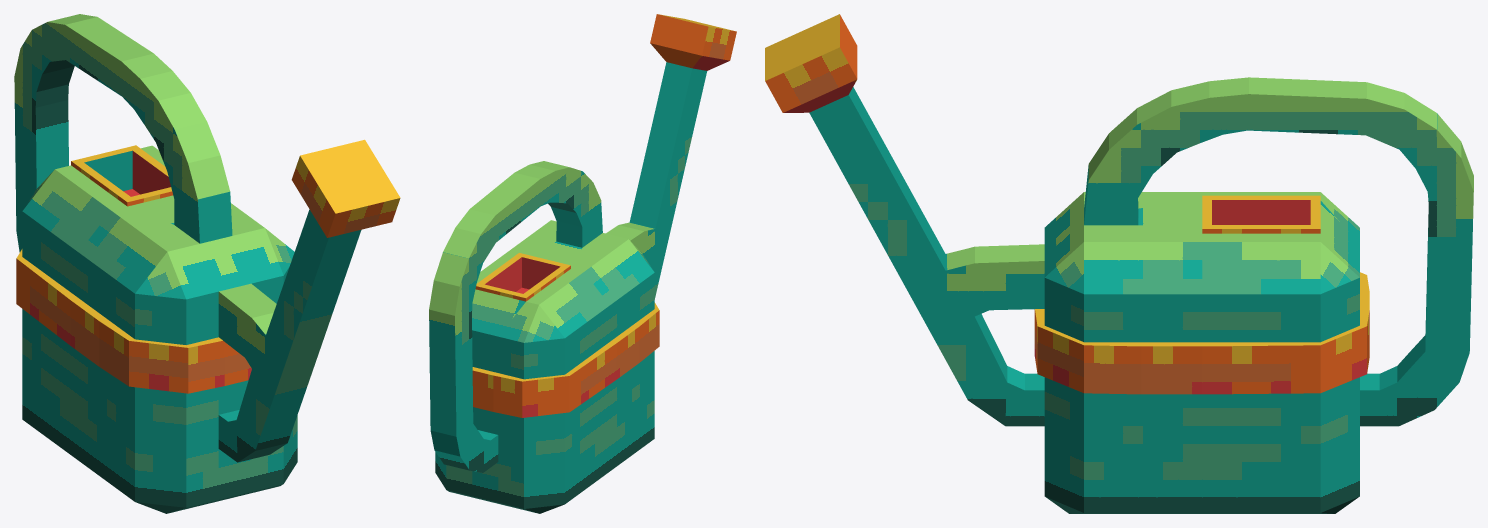
The model's file is WateringCan.fbx.
3 renders of one model, left to right at view 1: azimuth 30°, elevation 25°; view 2: azimuth 150°, elevation 25°; view 3: azimuth 270°, elevation 25°, orthographic. The views are drawn at different scales.
Visible parts, largest first — view 1: beveled_cuboid; view 2: beveled_cuboid; view 3: beveled_cuboid.
Boxes of the visible parts, left/top/right/bottom form: beveled_cuboid: left=14, top=14, right=400, bottom=513; beveled_cuboid: left=429, top=14, right=736, bottom=513; beveled_cuboid: left=765, top=14, right=1473, bottom=513.
Size of the model in its own units: 68.75 by 159 by 225.
Materials: 1 (1 with a texture image).
